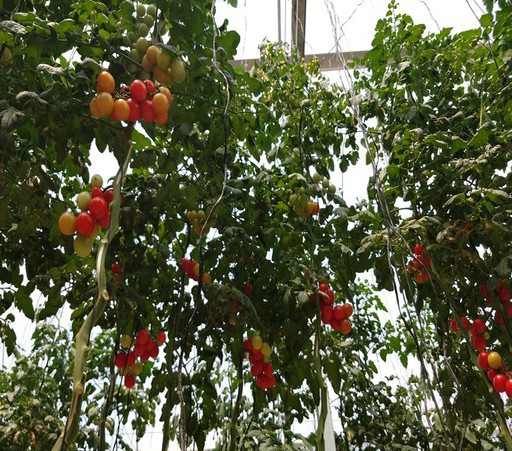green tomato bunch: (123, 4, 185, 86), (143, 45, 185, 84), (185, 208, 214, 234), (309, 172, 337, 196)
mixed tomato bunch: (59, 175, 121, 258), (242, 335, 276, 389)
red tomato bunch: (447, 318, 512, 399), (89, 72, 172, 125), (114, 330, 168, 386), (303, 273, 352, 331), (475, 276, 512, 323), (406, 242, 433, 282), (177, 256, 210, 282)
